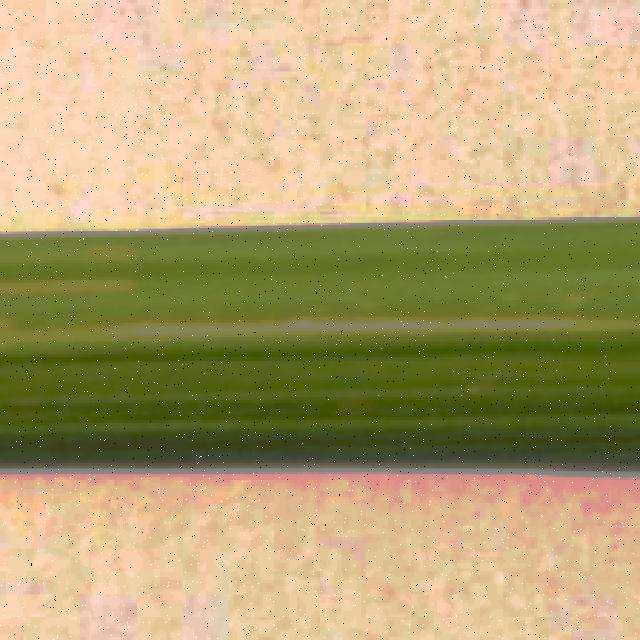unhealth: (0, 235, 639, 400)
